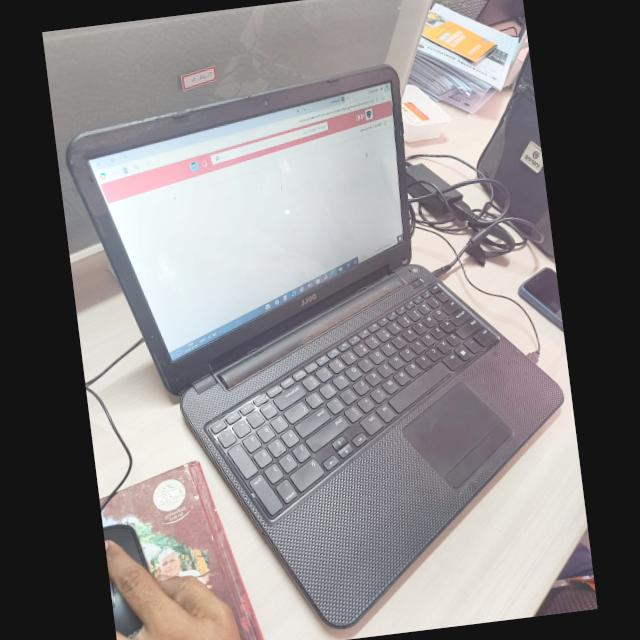laptop: (71, 42, 546, 640)
